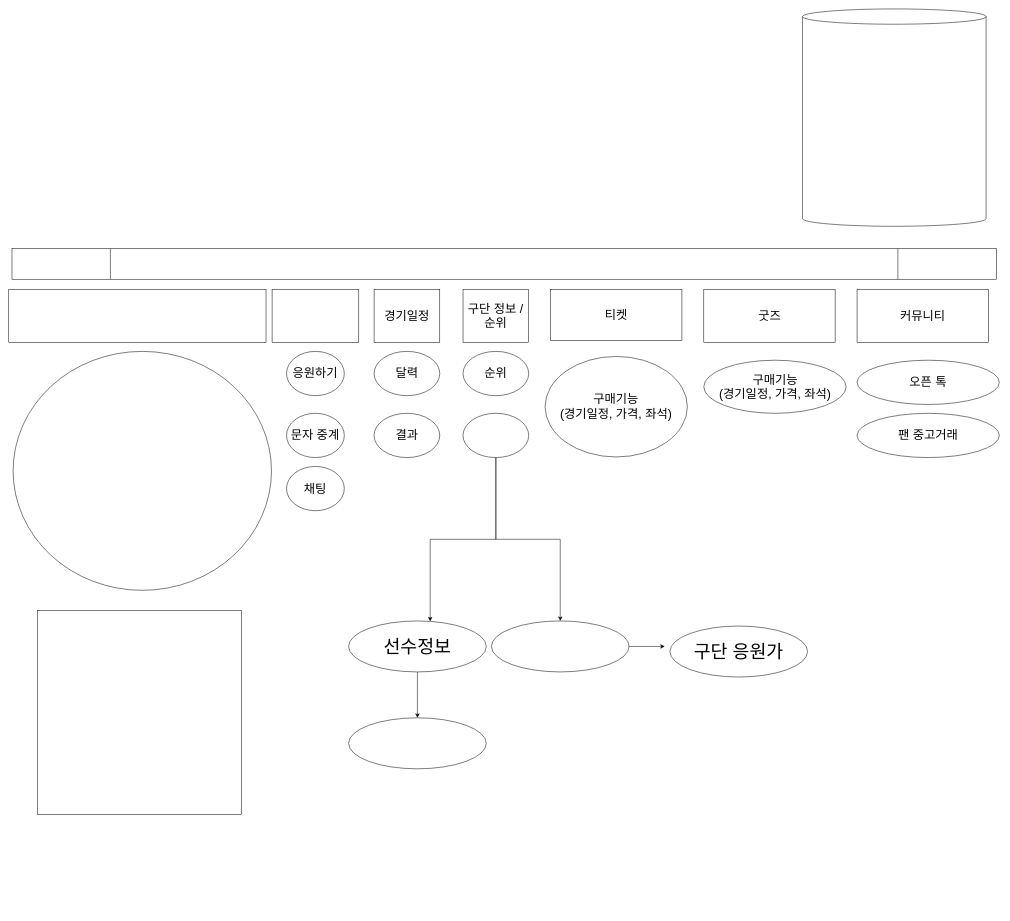
This 1010x921 diagram has some shape labels left out. The shapes that lost their labels are listed below. From the top down, each one's centre as x and y in pixels, then its label:
At [894,117]: "Oracle DB".
At [503,263]: "걸어봐 위엄 라잌어 라이옹".
At [137,316]: "비트 뭐시기".
At [315,316]: "실시간 중계".
At [496,435]: "구단정보".
At [142,470]: "로그인 (일반) (네이버) (키카오)".
At [560,646]: "구단영상".
At [139,712]: "<부가기능> - 선수 DB REST API 제공 기능".
At [417,743]: "선수 응원가".
